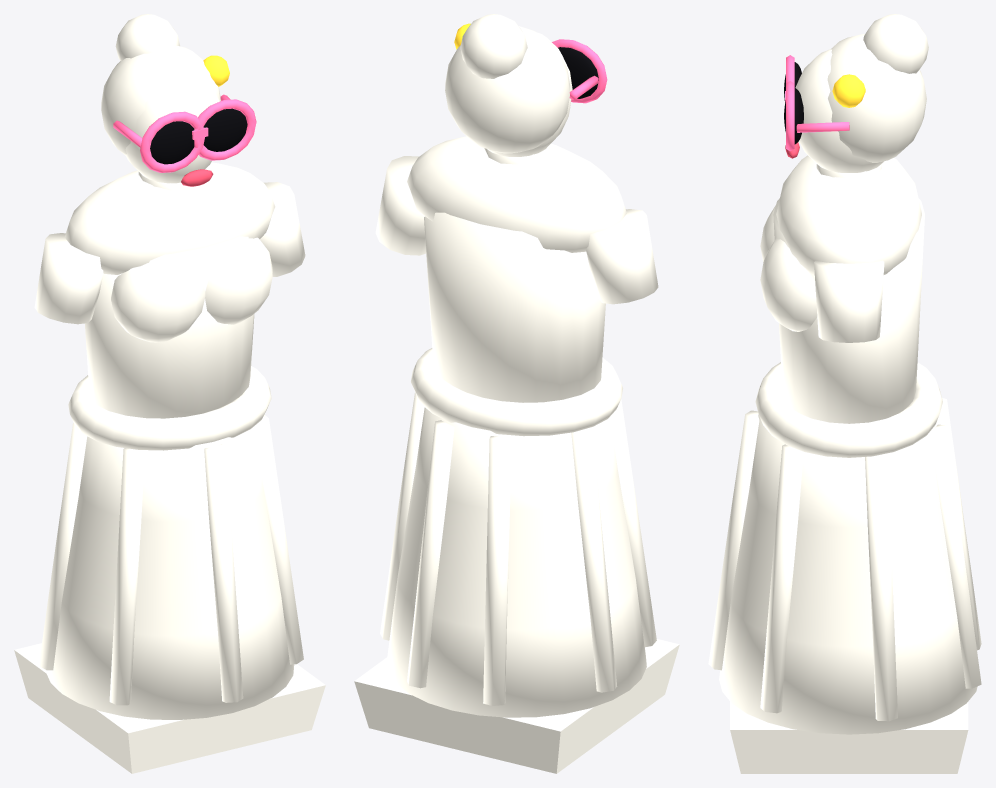
File: venus.glb
3 views of the same model, side by side, from view 1: azimuth 30°, elevation 25°; view 2: azimuth 150°, elevation 25°; view 3: azimuth 270°, elevation 25° (orthographic). The views are drawn at different scales.
Visible parts, largest first — view 1: venus_falda, venus_torso, venus_hombros, venus_peana, venus_cinturon, venus_pecho_dcho, venus_pliegue_2, venus_pliegue_3, venus_pelo, venus_munon_dcho, venus_pecho_izq, venus_pliegue_1 (+9 smaller); view 2: venus_falda, venus_torso, venus_hombros, venus_peana, venus_pelo, venus_cinturon, venus_pliegue_0, venus_pliegue_1, venus_pliegue_6, venus_munon_dcho, venus_munon_izq, venus_mono (+5 smaller); view 3: venus_falda, venus_torso, venus_hombros, venus_peana, venus_pelo, venus_cinturon, venus_pliegue_5, venus_pliegue_4, venus_munon_izq, venus_pliegue_6, venus_cabeza, venus_pliegue_3 (+6 smaller).
Part boxes in pixels (<box>): venus_falda: <box>45,426,294,719</box>; venus_torso: <box>84,236,254,418</box>; venus_hombros: <box>65,162,275,274</box>; venus_peana: <box>14,643,325,773</box>; venus_cinturon: <box>68,366,271,450</box>; venus_pecho_dcho: <box>111,261,205,342</box>; venus_pliegue_2: <box>109,448,145,705</box>; venus_pliegue_3: <box>204,444,243,702</box>; venus_pelo: <box>101,46,220,155</box>; venus_munon_dcho: <box>34,233,103,324</box>; venus_pecho_izq: <box>205,237,272,324</box>; venus_pliegue_1: <box>38,423,87,670</box>; venus_falda: <box>387,407,646,717</box>; venus_torso: <box>424,212,605,402</box>; venus_hombros: <box>407,136,626,252</box>; venus_peana: <box>354,639,679,773</box>; venus_pelo: <box>445,26,570,153</box>; venus_cinturon: <box>411,348,622,436</box>; venus_pliegue_0: <box>483,436,511,705</box>; venus_pliegue_1: <box>571,427,617,692</box>; venus_pliegue_6: <box>407,420,454,688</box>; venus_munon_dcho: <box>586,209,658,304</box>; venus_munon_izq: <box>375,156,426,255</box>; venus_mono: <box>460,14,527,78</box>; venus_falda: <box>719,414,977,734</box>; venus_torso: <box>773,198,924,423</box>; venus_hombros: <box>776,155,921,274</box>; venus_peana: <box>730,701,968,773</box>; venus_pelo: <box>827,34,926,162</box>; venus_cinturon: <box>755,362,942,457</box>; venus_pliegue_5: <box>865,453,897,721</box>; venus_pliegue_4: <box>760,444,803,713</box>; venus_munon_izq: <box>814,260,884,342</box>; venus_pliegue_6: <box>930,424,981,688</box>; venus_cabeza: <box>795,49,883,172</box>; venus_pliegue_3: <box>708,410,759,670</box>.
Size of the model in its own units: 0.2069 by 0.512 by 0.1783.
